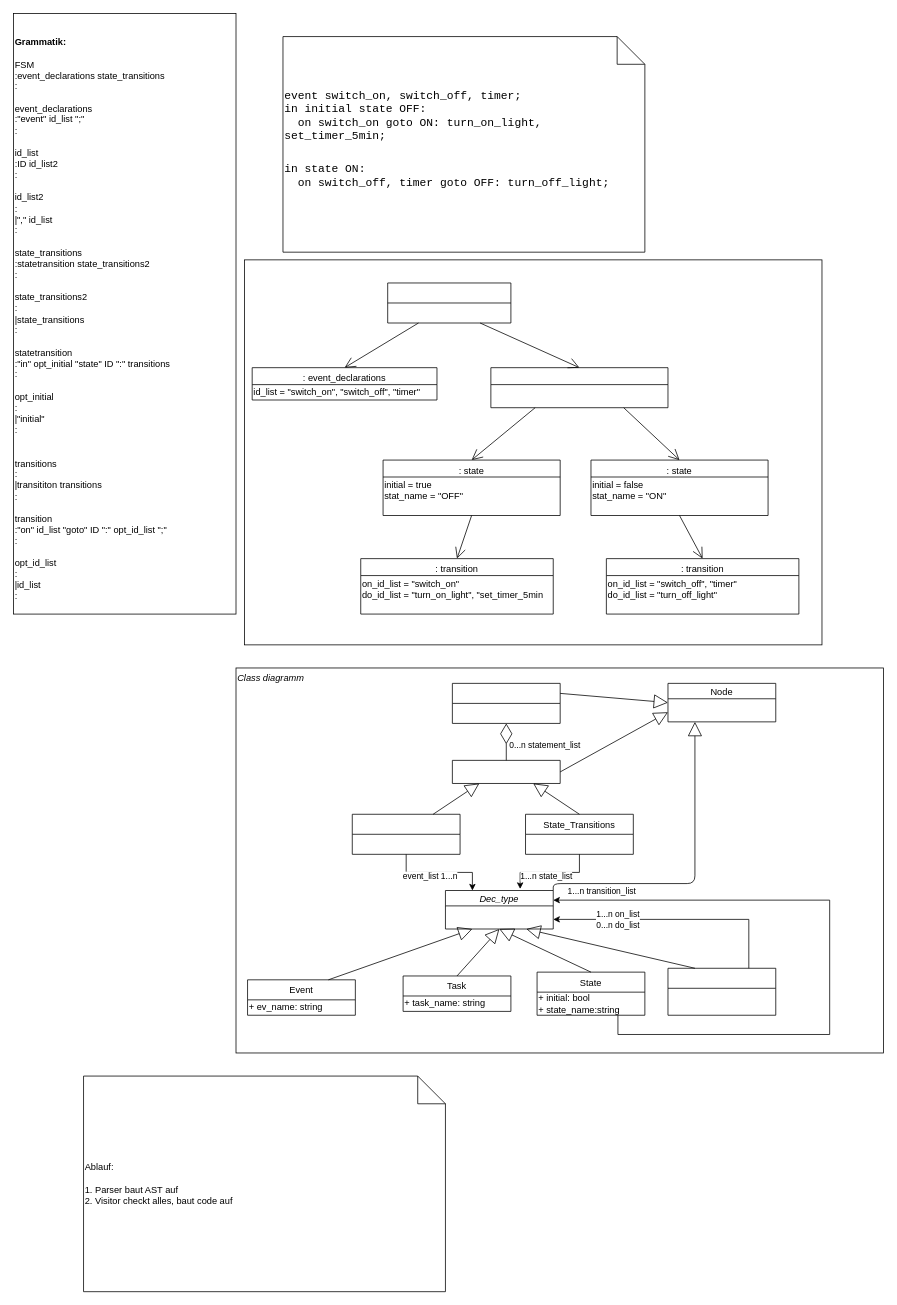
The diagram is 897 pixels wide and 1305 high, and some of its shapes have lost their labels. Here are the shapes that lost their labels. From the top down, the box of each, then its label:
(387, 282, 511, 323): : FSM
(490, 367, 668, 408): : state_transitions
(244, 259, 822, 645): Object diagramm
(452, 683, 560, 723): FSM
(452, 760, 560, 783): Statement
(352, 814, 460, 854): Event_declaration
(667, 968, 776, 1015): Transition
